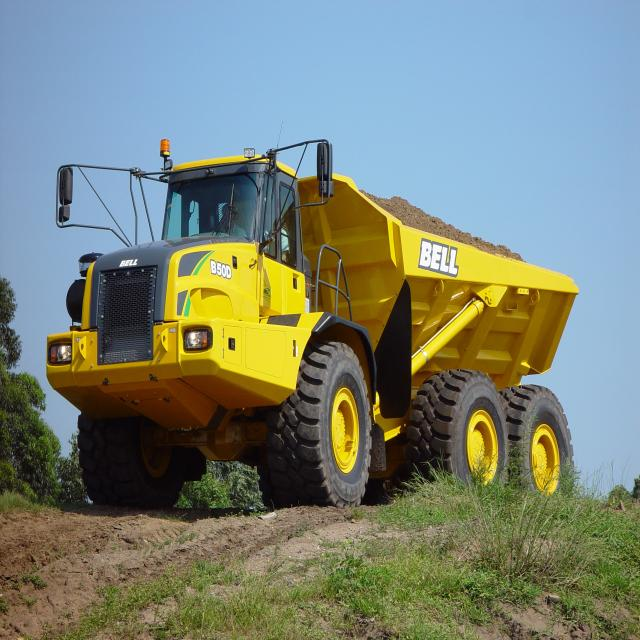dump_truck: (30, 138, 593, 522)
